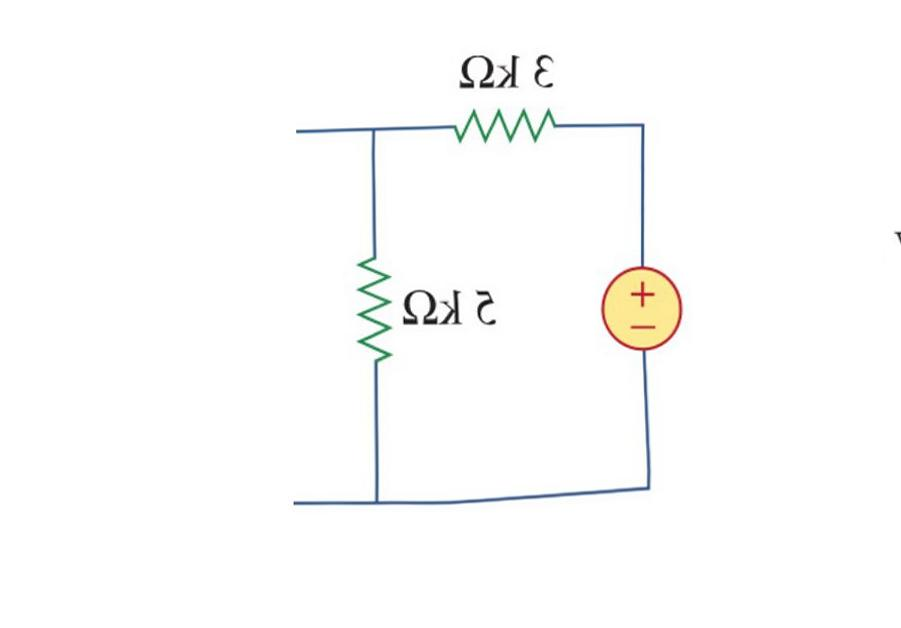Battery: (582, 254, 704, 372)
